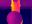Hotspot: (11, 0, 16, 11)
